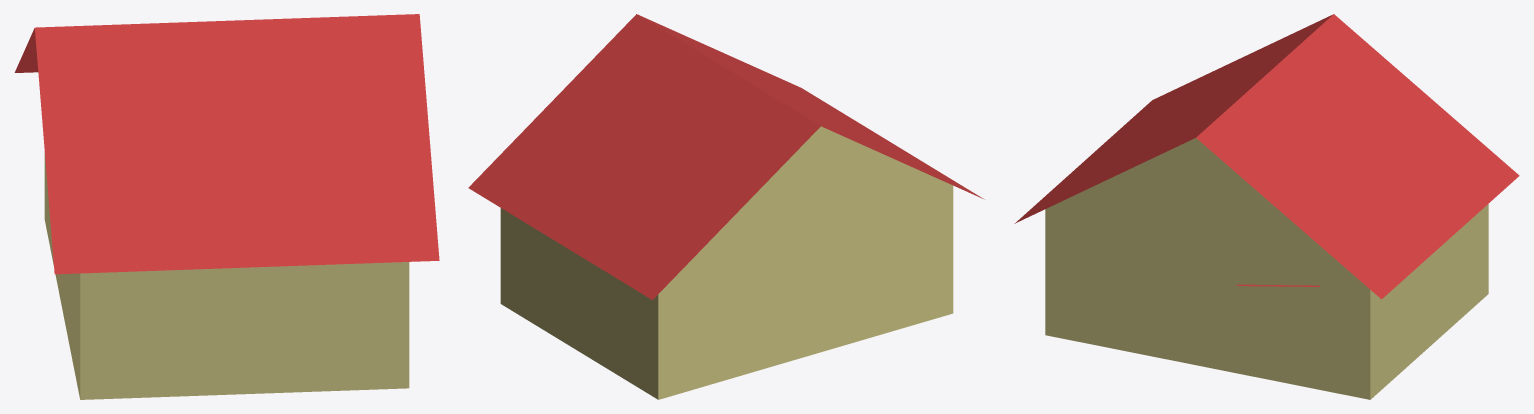
3 views of the same model, side by side, from view 1: azimuth 30°, elevation 25°; view 2: azimuth 150°, elevation 25°; view 3: azimuth 270°, elevation 25° (orthographic). The views are drawn at different scales.
Bounding box in the file's own units: 29.79 × 32.3 × 16.81.
